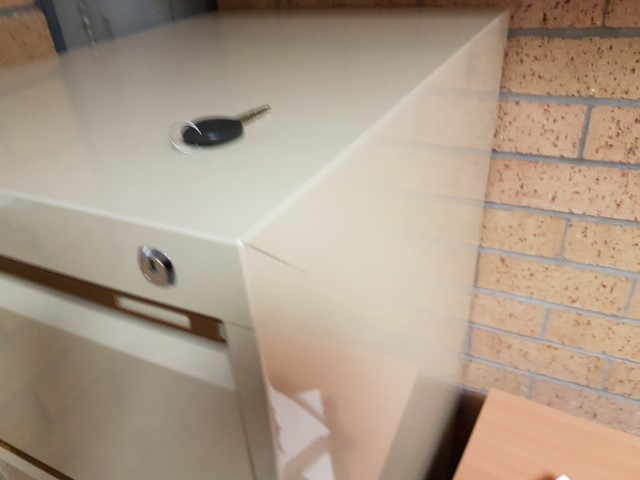key: (179, 101, 272, 147)
